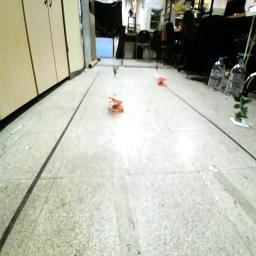herb: (235, 97, 253, 123), (114, 66, 120, 76)
wild: (109, 97, 127, 114), (157, 76, 167, 87)
